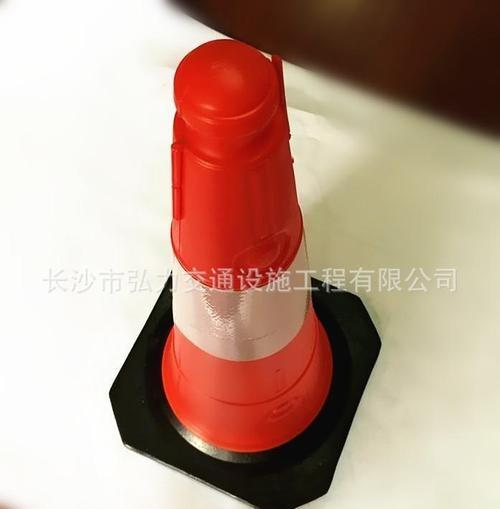cone_barrel: (138, 23, 337, 459)
